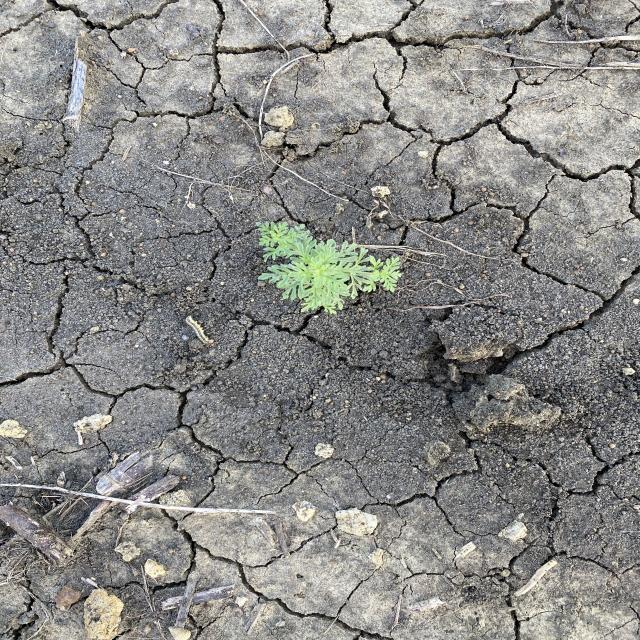Ragweed: (252, 220, 406, 316)
